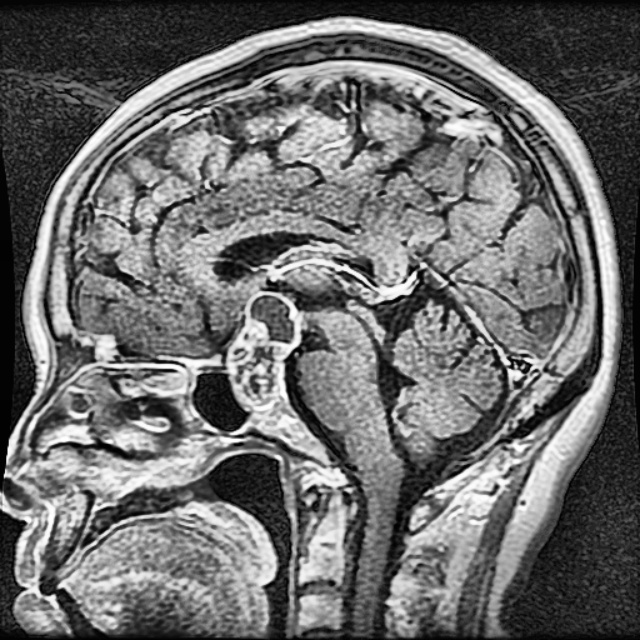Pituitary: (227, 289, 303, 413)
